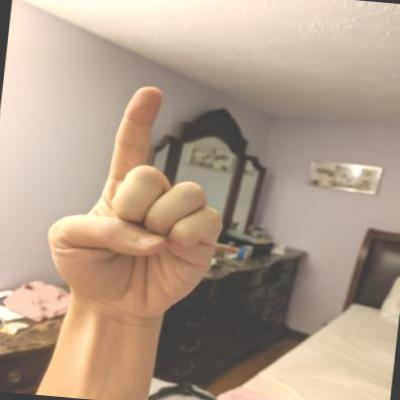hand: (38, 76, 242, 324)
